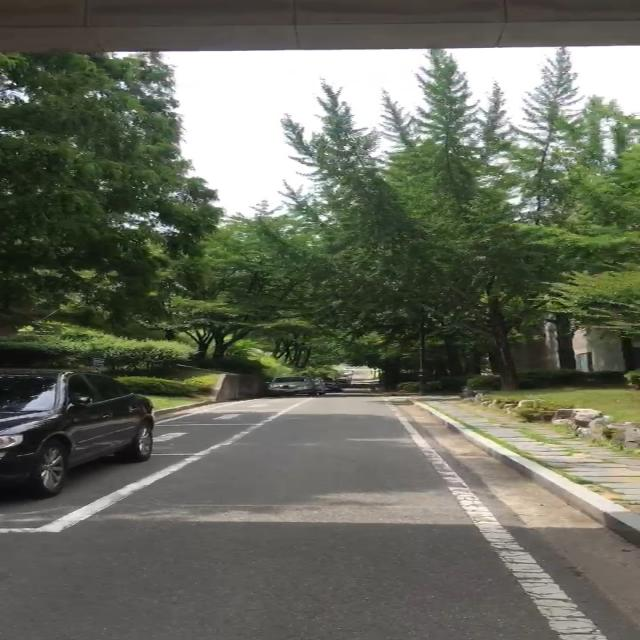obstacle: (0, 368, 156, 498), (269, 377, 351, 398)
road: (0, 397, 640, 640)
sidewalk: (407, 396, 640, 515)
